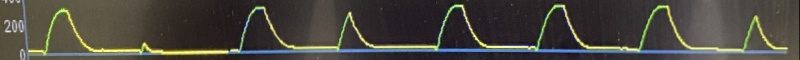normal_volume: (32, 0, 800, 59)
